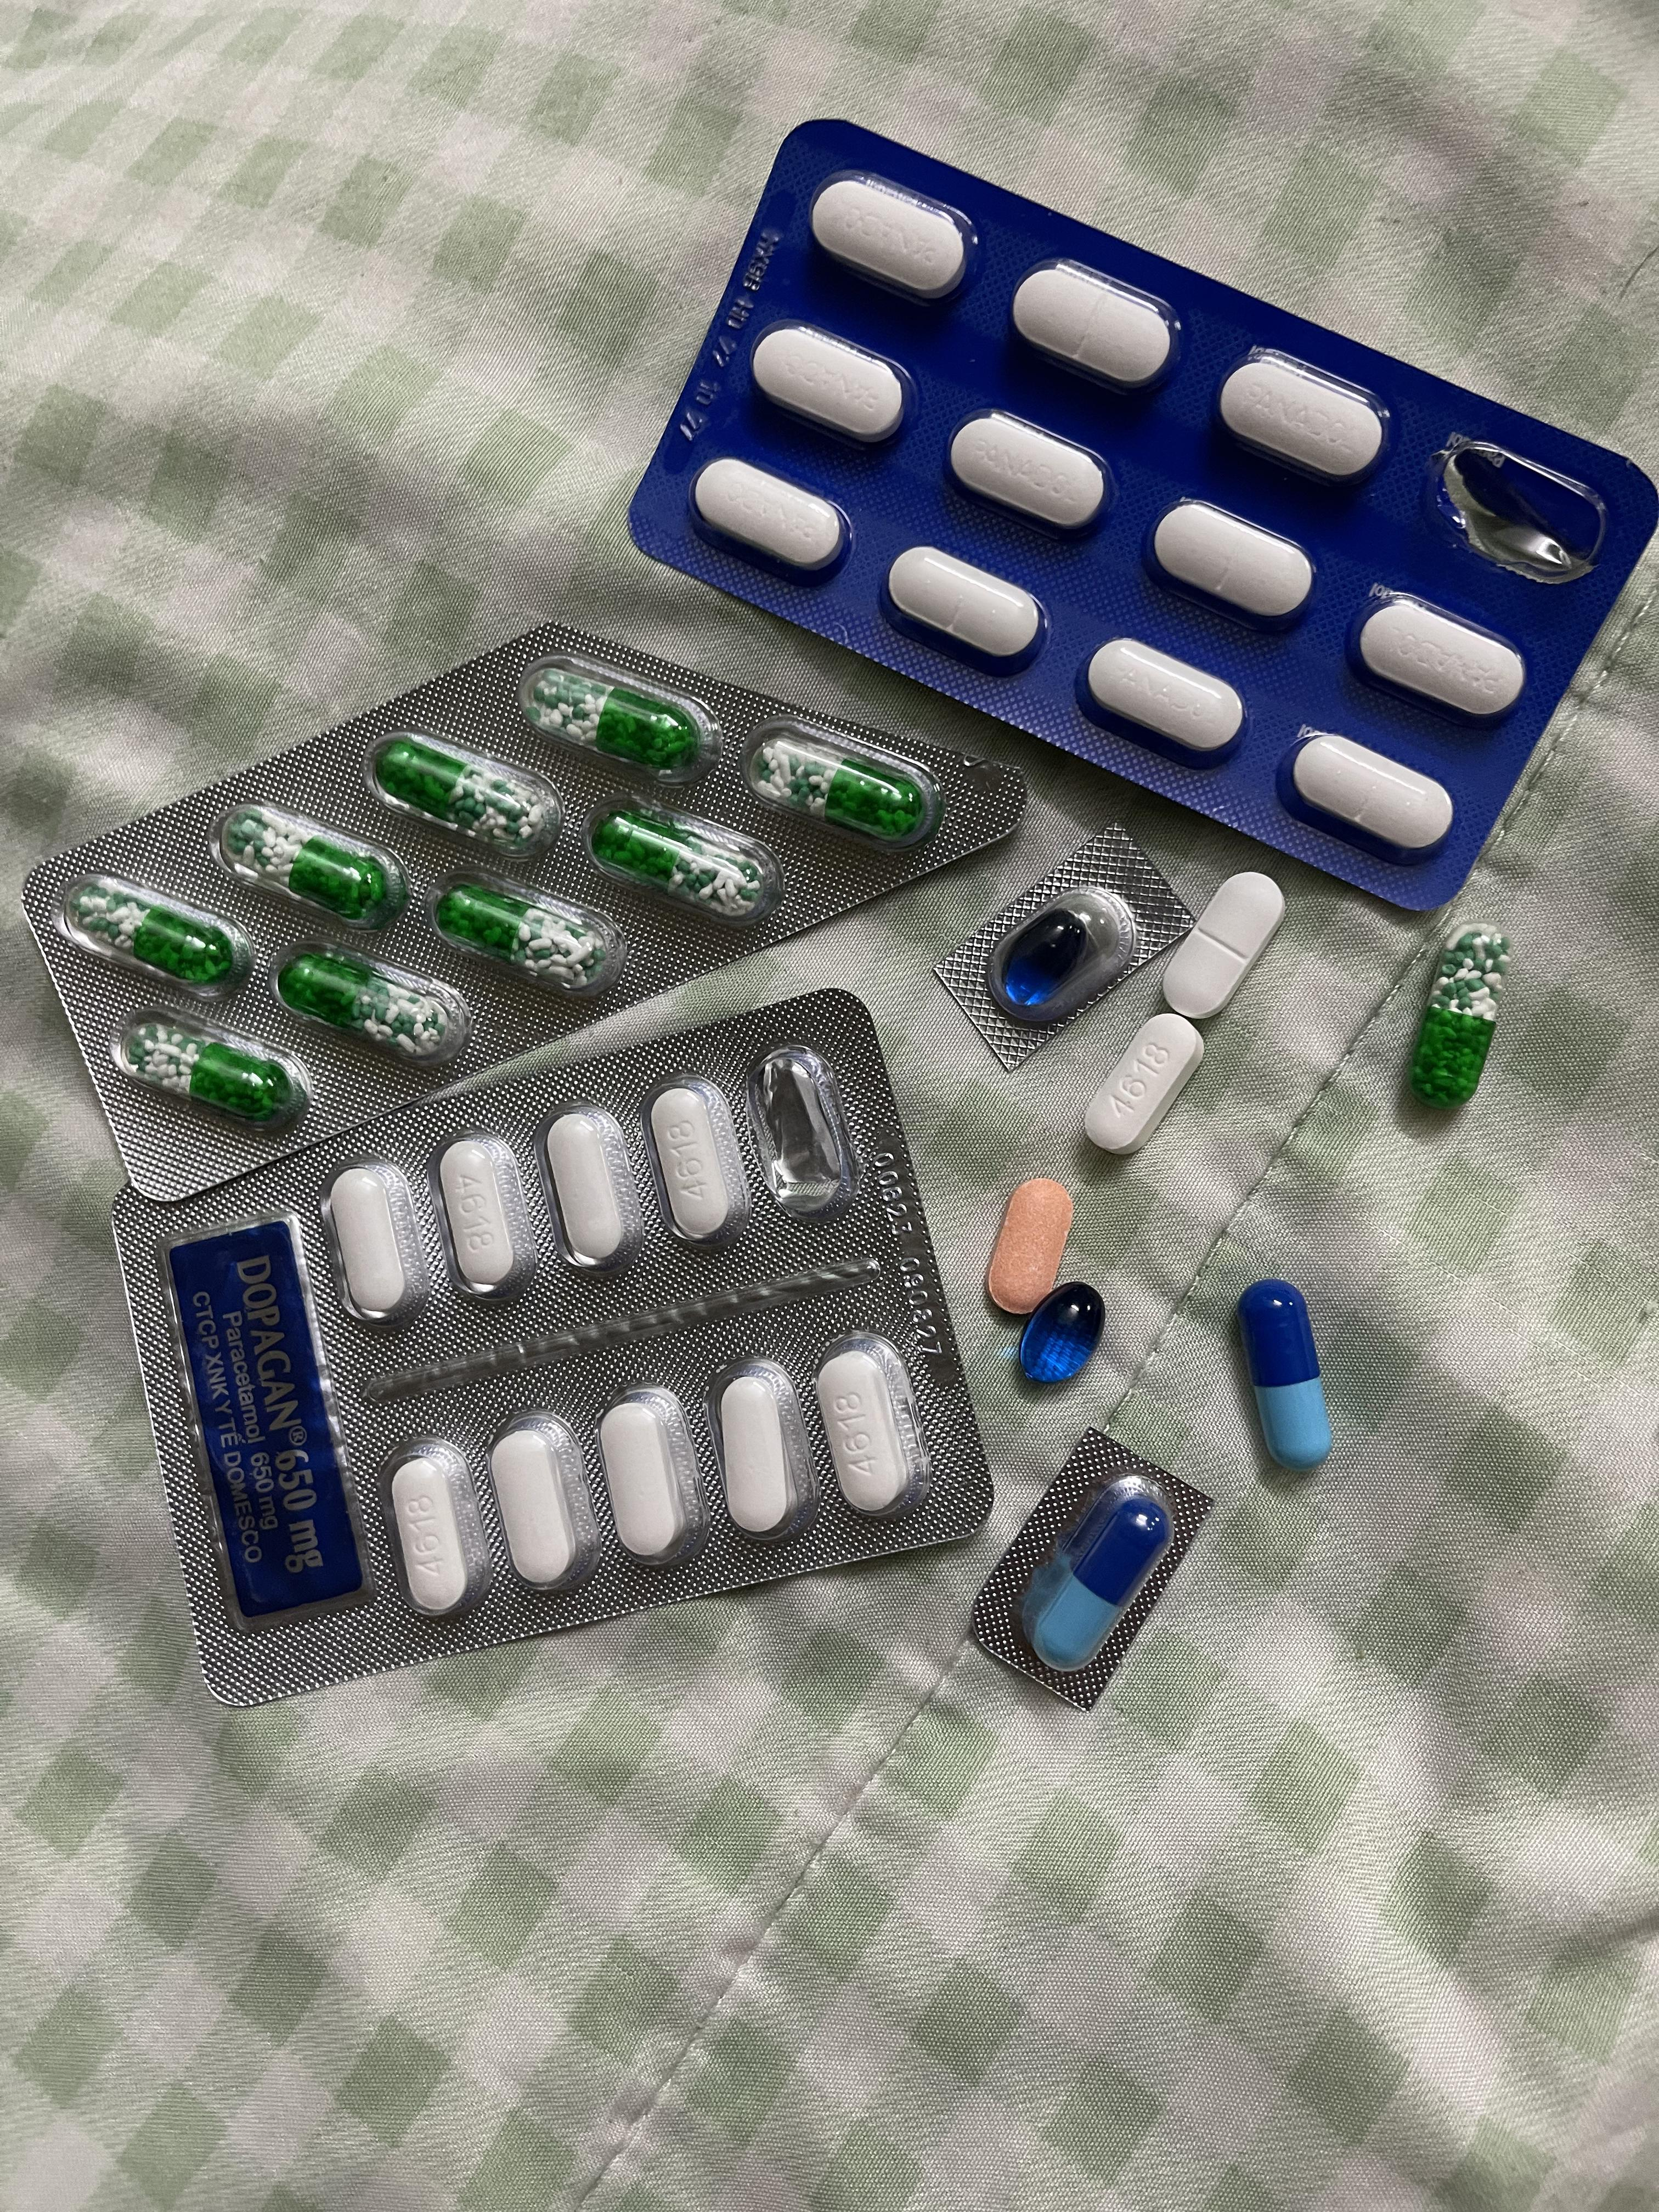Lincomyxin_500mg: (999, 909, 1096, 1007), (1018, 1282, 1105, 1383)
Loratadine_10mg: (993, 1174, 1082, 1313)
Paracetamol_350mg: (1276, 726, 1466, 859), (1218, 350, 1394, 491), (1347, 592, 1528, 728), (1145, 498, 1319, 634), (807, 171, 978, 307), (1011, 260, 1180, 395), (882, 543, 1046, 674), (946, 408, 1112, 536), (1080, 636, 1246, 759), (749, 322, 906, 449), (694, 456, 845, 583), (1157, 876, 1279, 1017)
Paracetamol_500mg: (1077, 1017, 1206, 1158), (599, 1392, 690, 1561), (490, 1425, 580, 1590), (814, 1352, 903, 1519), (390, 1458, 476, 1616), (544, 1111, 629, 1266), (652, 1087, 737, 1242), (439, 1136, 525, 1289), (720, 1371, 795, 1534), (326, 1169, 410, 1315)
Paracetamol_650mg: (1412, 927, 1516, 1109), (378, 740, 549, 848), (230, 812, 397, 918), (437, 883, 610, 986), (282, 953, 451, 1057), (75, 885, 235, 984), (535, 672, 701, 768), (125, 1024, 295, 1116), (596, 815, 755, 913), (760, 745, 918, 841)
pill: (1021, 1470, 1182, 1672), (1241, 1275, 1335, 1468)
